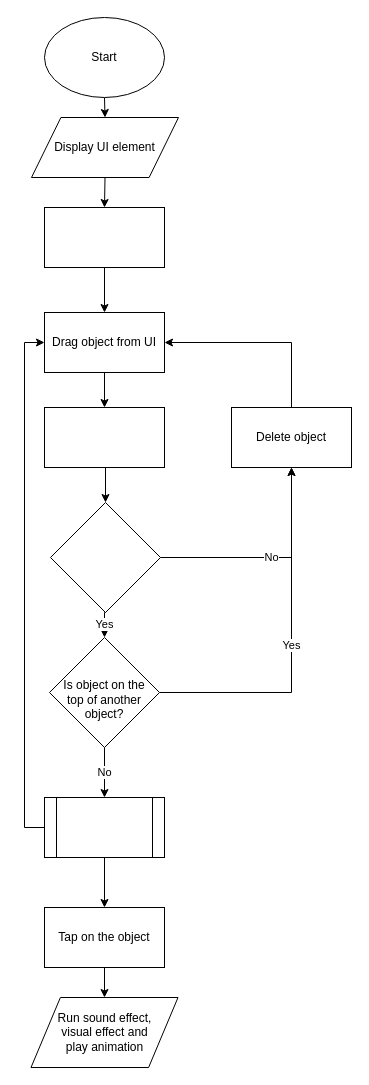
This 369x1085 diagram has some shape labels left out. Here are the shapes that lost their labels. From the top down, the centre of each, then its label:
At point 104,237: "Detect Image target".
At point 104,437: "Place object on 3D world".
At point 105,557: "Is object on the terrain?".
At point 104,827: "Place object on the terrain".
